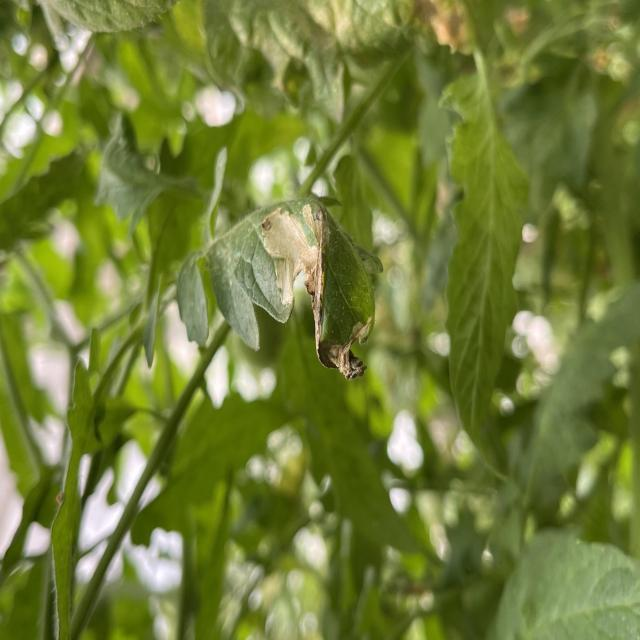Tuta absoluta: (259, 202, 334, 307)
